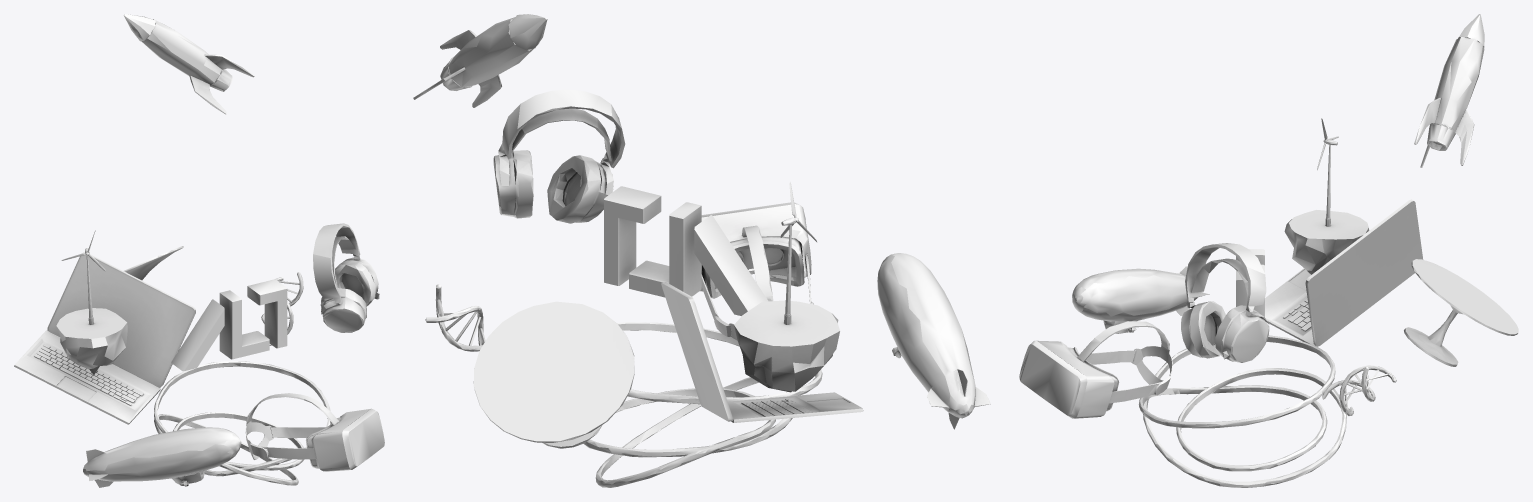
File: ao_shapes.glb
3 renders of one model, left to right at view 1: azimuth 30°, elevation 25°; view 2: azimuth 150°, elevation 25°; view 3: azimuth 270°, elevation 25°, orthographic. The views are drawn at different scales.
Parts seen in each view (by area): view 1: Notebook, Zeppelin, VR Headset, Altair Studio-Logo, Headphones, Rocket.003, Roundcube.001, Curly, Table, DNA; view 2: Table, Altair Studio-Logo, Headphones, Zeppelin, Roundcube.001, VR Headset, Curly, Notebook, Rocket.003, DNA; view 3: Notebook, VR Headset, Curly, Headphones, Zeppelin, Rocket.003, Table, Roundcube.001, DNA, Altair Studio-Logo.
Boxes of the visible parts, x1,y1,x2,y2 form: Notebook: (14, 252, 195, 424); Zeppelin: (83, 427, 241, 487); VR Headset: (245, 393, 384, 471); Altair Studio-Logo: (171, 279, 287, 371); Headphones: (313, 223, 379, 332); Rocket.003: (123, 14, 254, 114); Roundcube.001: (56, 230, 127, 374); Curly: (154, 361, 330, 485); Table: (124, 246, 183, 280); DNA: (261, 272, 303, 345); Table: (473, 301, 634, 448); Altair Studio-Logo: (604, 186, 768, 315); Headphones: (493, 89, 625, 223); Zeppelin: (877, 253, 990, 429); Roundcube.001: (734, 182, 839, 392); VR Headset: (700, 202, 813, 340); Curly: (583, 322, 822, 487); Notebook: (661, 282, 863, 422); Rocket.003: (413, 14, 547, 107); DNA: (425, 284, 485, 351); Notebook: (1265, 199, 1423, 346); VR Headset: (1019, 321, 1172, 418); Curly: (1138, 335, 1346, 487); Headphones: (1181, 243, 1269, 362); Zeppelin: (1072, 266, 1209, 333); Rocket.003: (1414, 14, 1484, 167); Table: (1404, 259, 1518, 366); Roundcube.001: (1284, 118, 1369, 274); DNA: (1322, 365, 1396, 415); Altair Studio-Logo: (1236, 249, 1264, 320).
Size of the model in its own units: 63.68 by 75.73 by 77.01.
10 materials, 10 textured.
